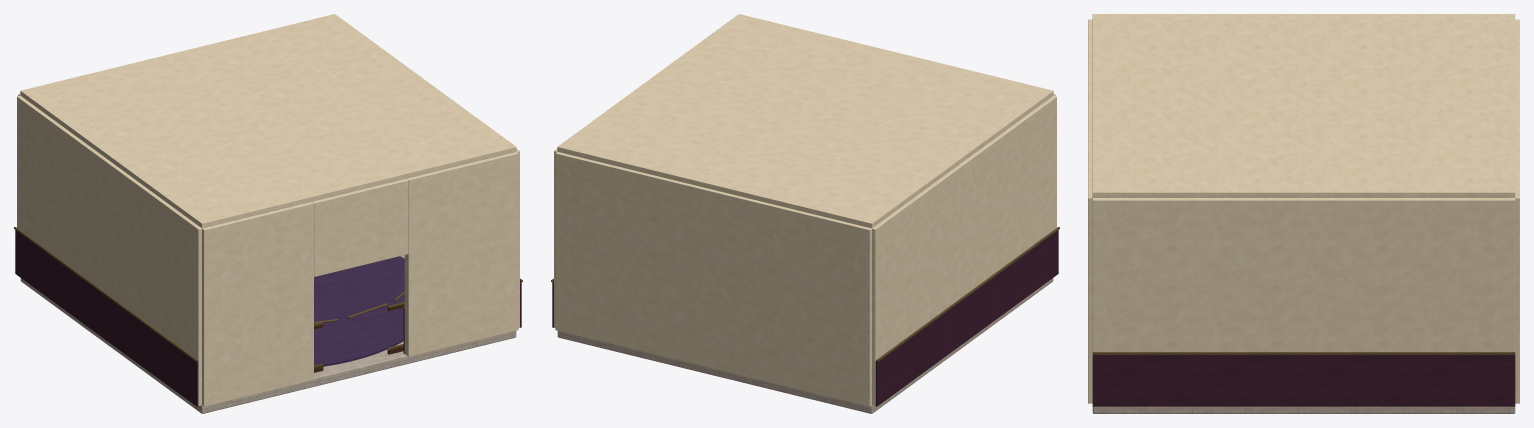
The model's file is explore3d__trial_elevator.glb.
3 views of the same model, side by side, from view 1: azimuth 30°, elevation 25°; view 2: azimuth 150°, elevation 25°; view 3: azimuth 270°, elevation 25° (orthographic). The views are drawn at different scales.
Parts seen in each view (by area): view 1: ceiling.051, wall.139, wall.136, wall.137, lower_panel.138, cabin_floor, door_lintel.035, trial_elevator_floor, panel_rail.138; view 2: ceiling.051, wall.138, wall.139, lower_panel.138, trial_elevator_floor, panel_rail.138; view 3: ceiling.051, wall.140, lower_panel.139, trial_elevator_floor, wall.138, wall.136, panel_rail.139.
Part boxes in pixels (box(x1,y1,x2,y2)): ceiling.051: box(20, 14, 516, 228); wall.139: box(17, 95, 201, 406); wall.136: box(404, 152, 518, 356); wall.137: box(202, 201, 313, 406); lower_panel.138: box(15, 230, 198, 406); cabin_floor: box(314, 256, 404, 366); door_lintel.035: box(312, 179, 408, 276); trial_elevator_floor: box(20, 255, 516, 413); panel_rail.138: box(14, 227, 197, 361); ceiling.051: box(557, 14, 1053, 228); wall.138: box(555, 152, 871, 406); wall.139: box(872, 95, 1056, 406); lower_panel.138: box(875, 230, 1058, 406); trial_elevator_floor: box(557, 278, 1053, 413); panel_rail.138: box(876, 227, 1059, 361); ceiling.051: box(1092, 14, 1515, 197); wall.140: box(1092, 198, 1515, 351); lower_panel.139: box(1092, 355, 1515, 406); trial_elevator_floor: box(1092, 406, 1515, 413); wall.138: box(1515, 19, 1519, 403); wall.136: box(1088, 136, 1092, 403); panel_rail.139: box(1092, 352, 1515, 354).
Bounding box in the file's own units: 8.32 × 4.64 × 8.18.
9 materials, 8 textured.
